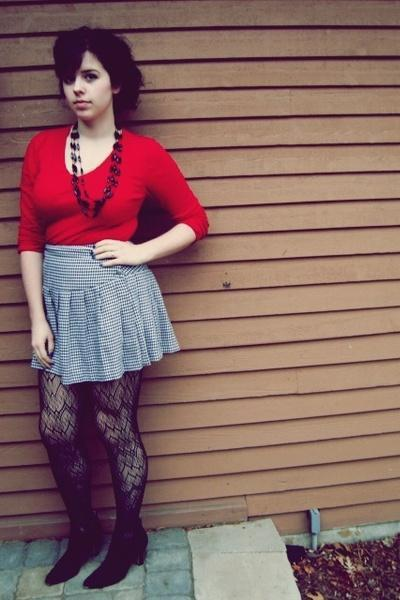jacket: (16, 121, 227, 251)
shoe: (45, 522, 147, 587)
skirt: (37, 244, 180, 383)
